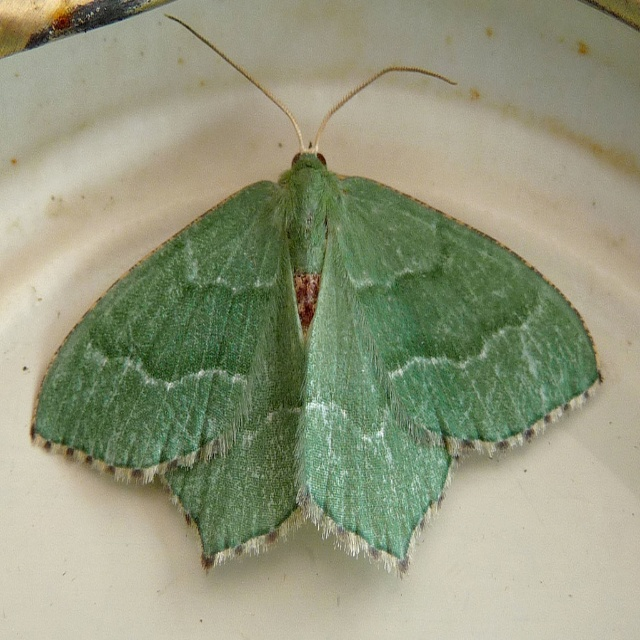Butterfly: (50, 0, 592, 582)
